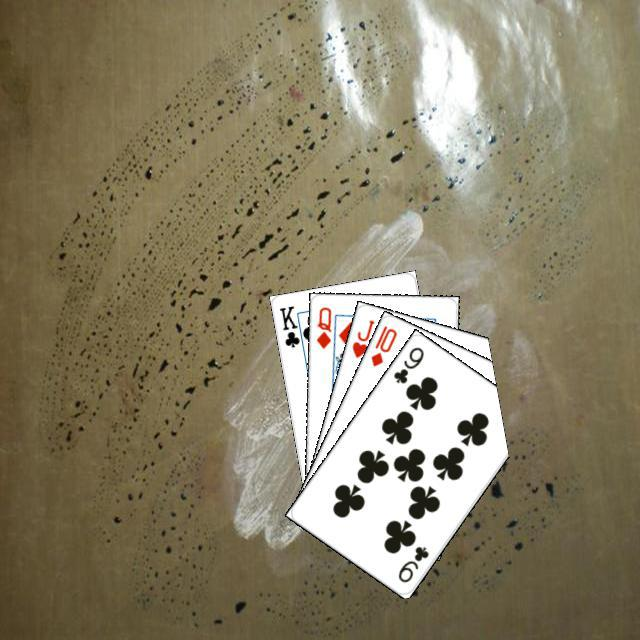10d: (366, 320, 399, 368)
9c: (393, 541, 431, 584), (389, 342, 426, 385)
Jh: (347, 315, 376, 360)
Kc: (274, 301, 306, 352)
Qd: (312, 302, 333, 350)
